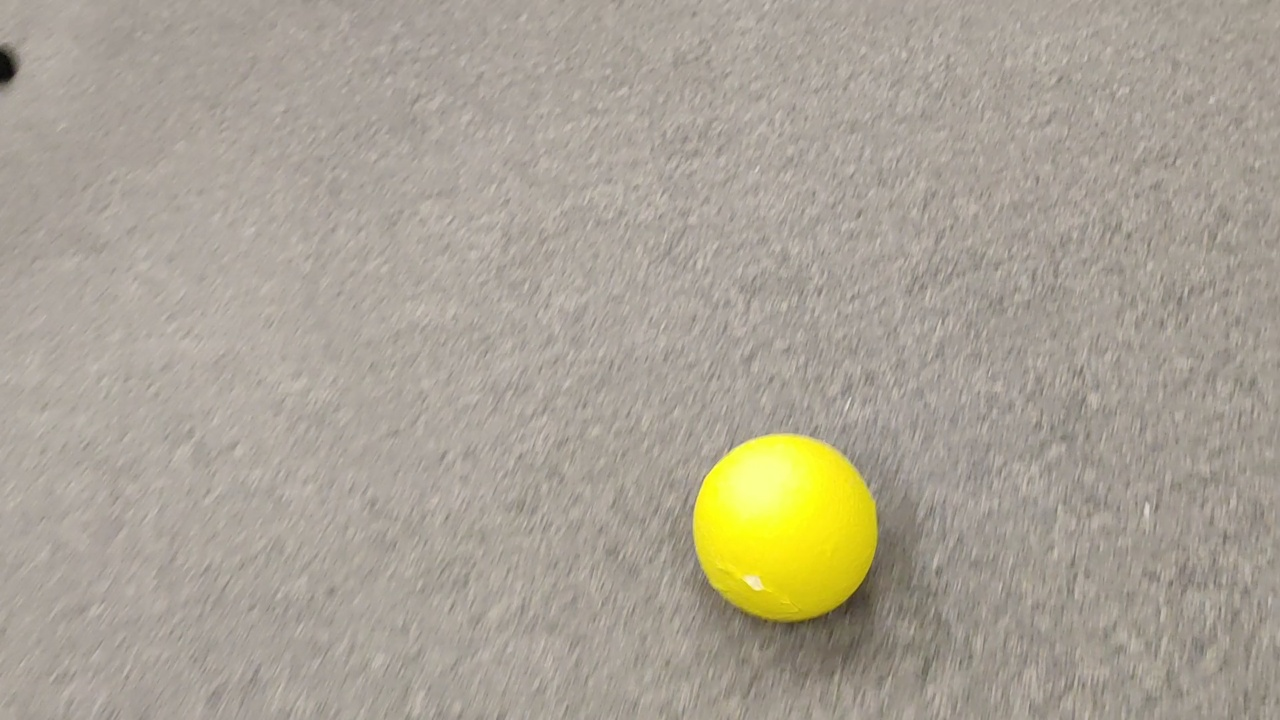Ball: (694, 432, 881, 626)
